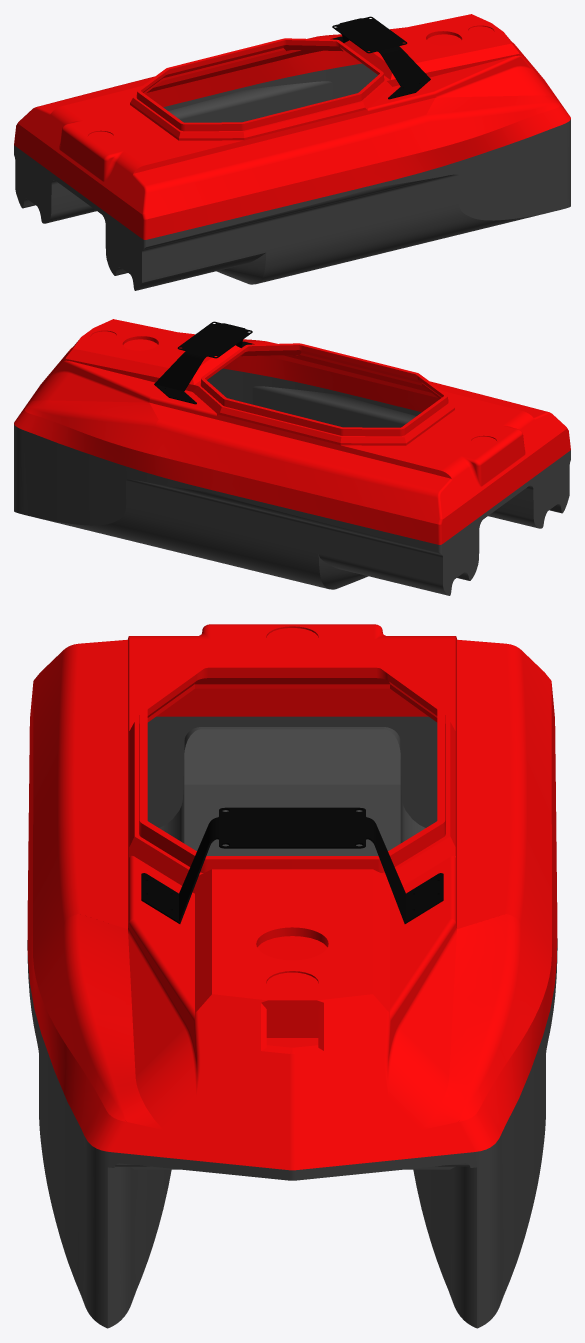
File: TestShip.fbx
The picture shows the model from 3 angles, top to bottom: view 1: azimuth 30°, elevation 25°; view 2: azimuth 150°, elevation 25°; view 3: azimuth 270°, elevation 25°; orthographic projection. The views are drawn at different scales.
Parts seen in each view (by area): view 1: TestShip; view 2: TestShip; view 3: TestShip.
Boxes of the visible parts, <box> form: TestShip: <box>14,14,570,290</box>; TestShip: <box>14,319,570,595</box>; TestShip: <box>27,624,557,1328</box>.
Size of the model in its own units: 187176 by 92374 by 67330.
